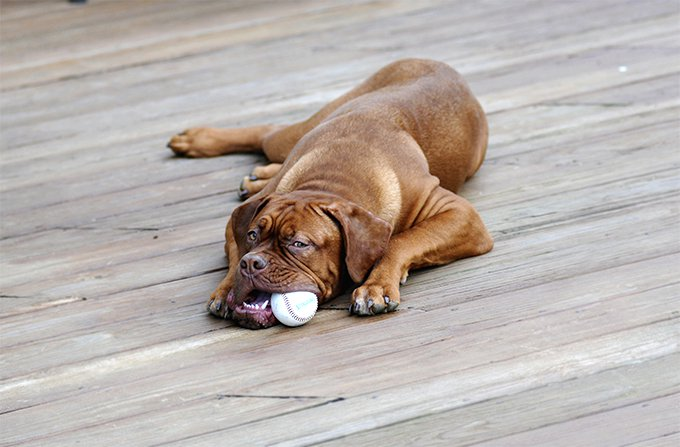dogue_de_bordeaux: (165, 57, 494, 331)
